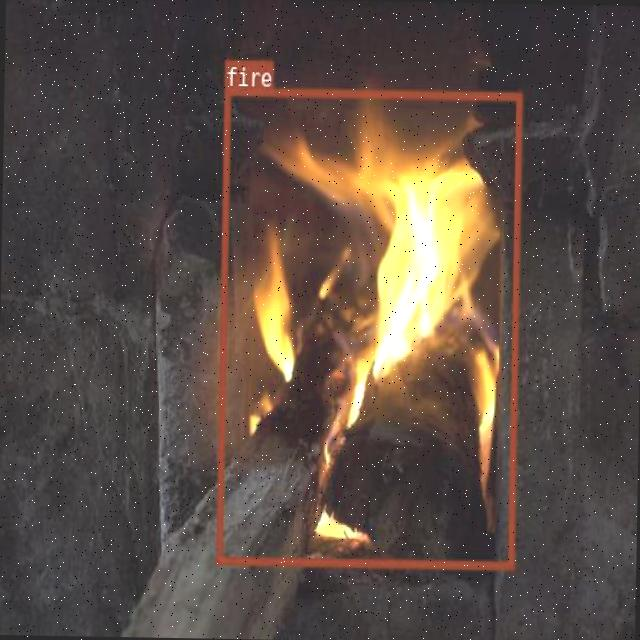fire: (216, 87, 521, 567)
